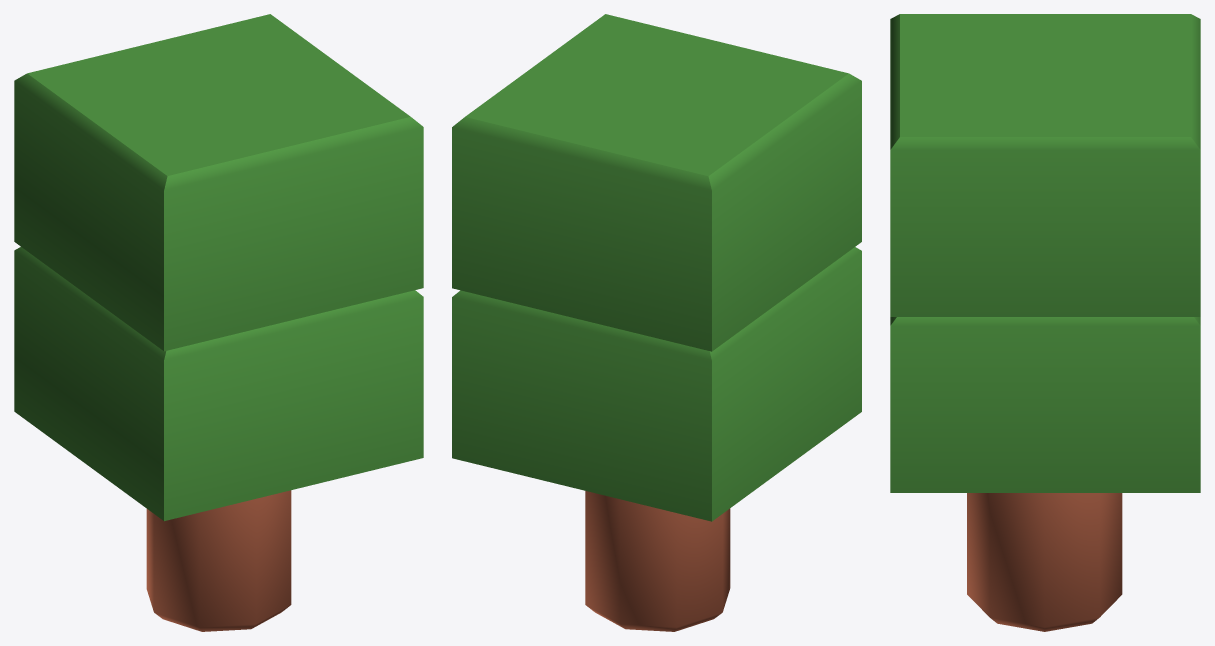
File: tree02.glb
The picture shows the model from 3 angles, left to right: view 1: azimuth 30°, elevation 25°; view 2: azimuth 150°, elevation 25°; view 3: azimuth 270°, elevation 25°; orthographic projection. The views are drawn at different scales.
Visible parts, largest first — view 1: none-hq-brick-1x1-round.001; view 2: none-hq-brick-1x1-round.001; view 3: none-hq-brick-1x1-round.001.
Boxes of the visible parts, <box> form: none-hq-brick-1x1-round.001: <box>14,14,423,631</box>; none-hq-brick-1x1-round.001: <box>452,14,861,631</box>; none-hq-brick-1x1-round.001: <box>890,14,1200,631</box>.
Bounding box in the file's own units: 1 × 1.89 × 1.
